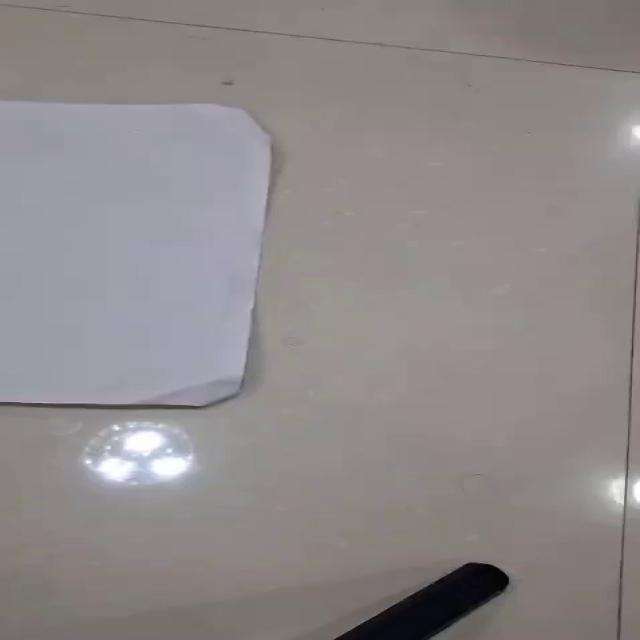paper: (0, 99, 273, 407)
